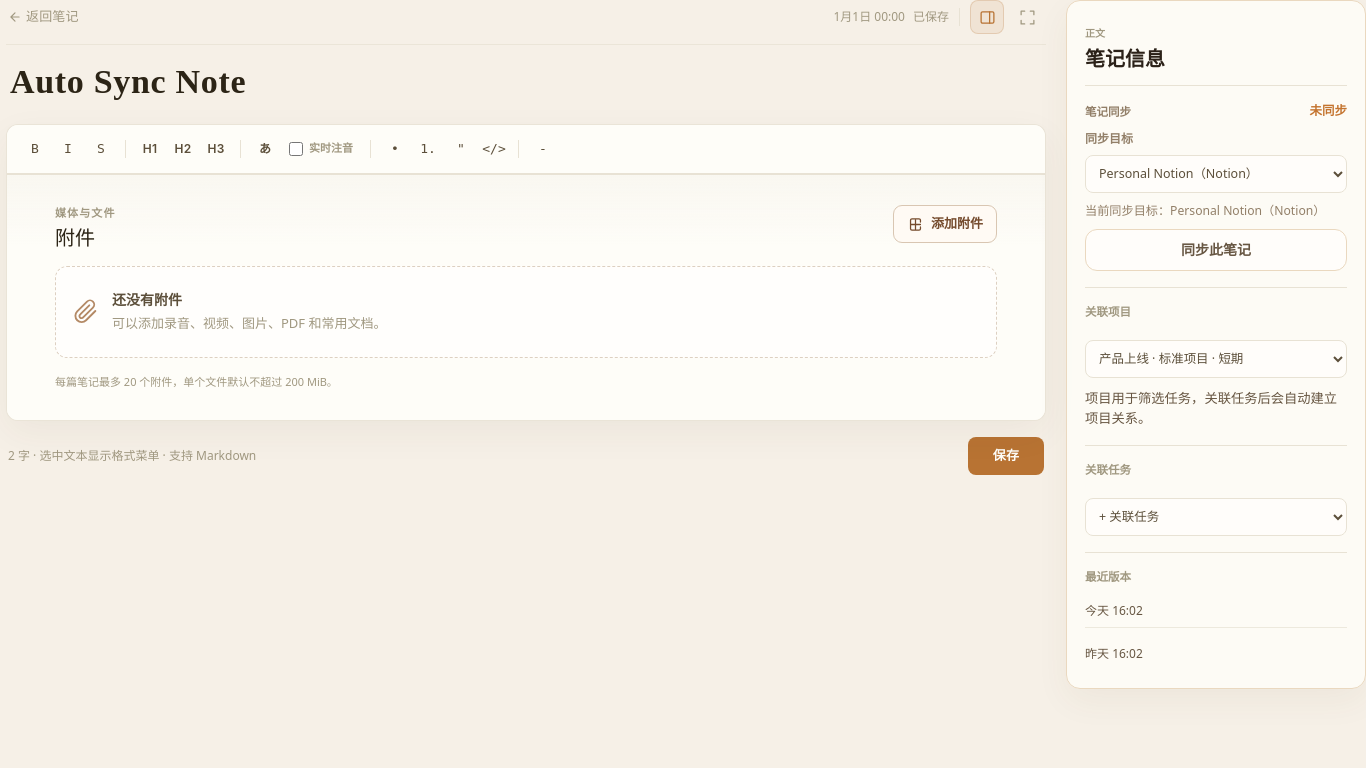
it: Editor auto sync › falls back to the manual dialog when automatic annotation fails
Expected: the field showing "Auto Sync Note" is shown, [6,59,1046,110]
What coordinates should you click on to do the following:
click the button named "假名标注"
I would click on:
 (265, 148)
Its box is [249,132,281,164].
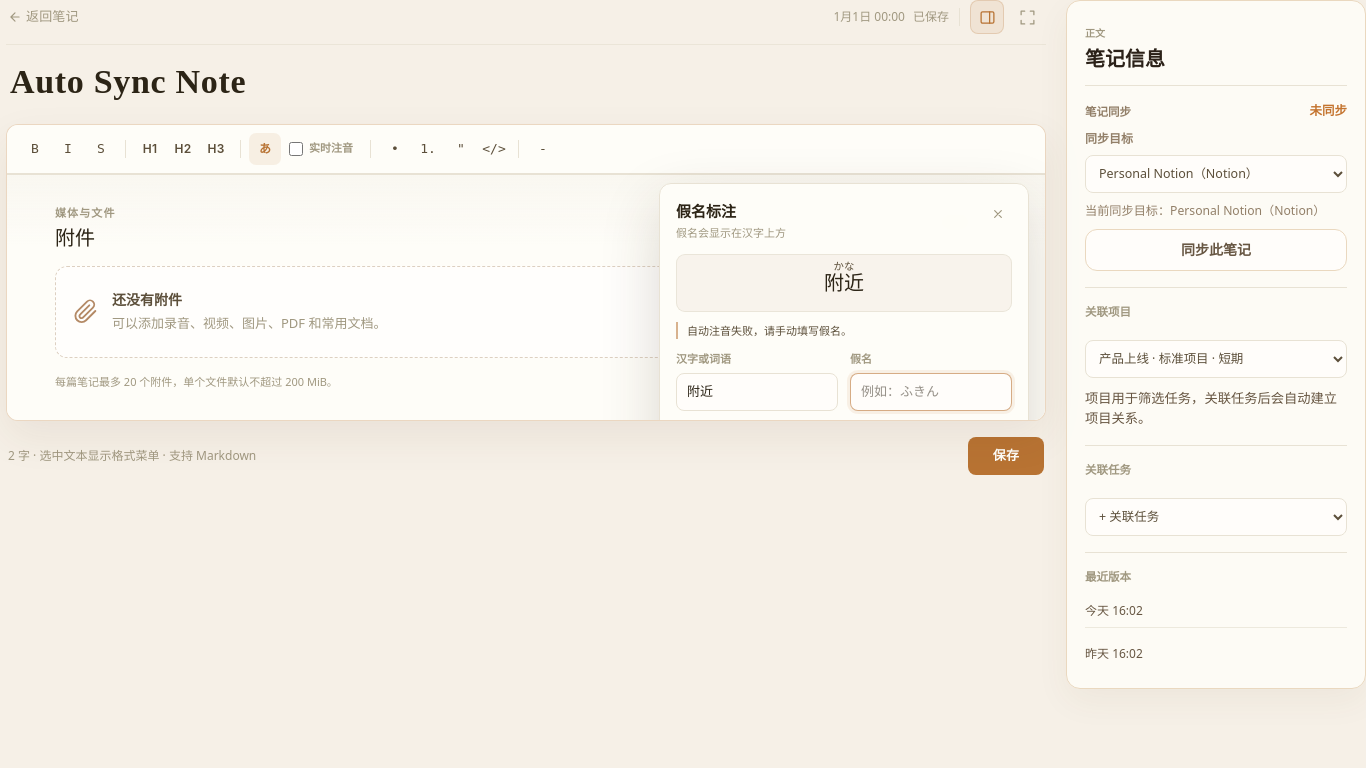
Now the dialog "假名标注" is shown, box [659,182,1029,421]
Now the field labelled "汉字或词语" holds "附近", box [676,373,838,411]
Now the text "自动注音失败，请手动填写假名。" is shown, box [676,322,1012,338]
